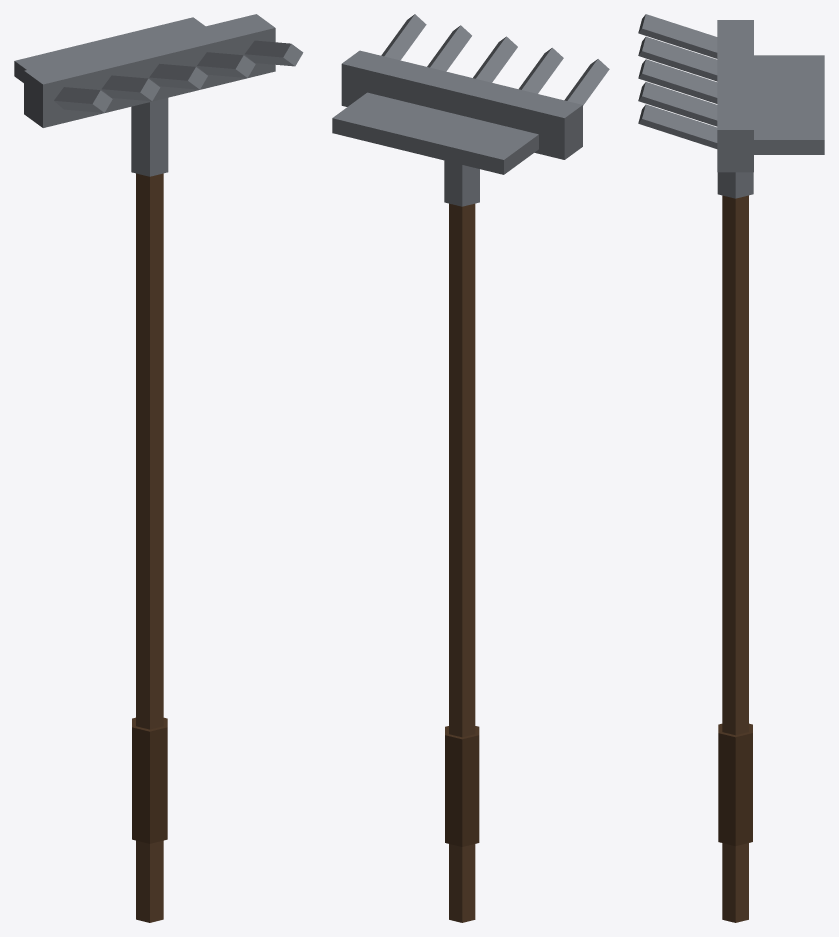
Rendered from T3_rake_a.glb.
3 views of the same model, side by side, from view 1: azimuth 30°, elevation 25°; view 2: azimuth 150°, elevation 25°; view 3: azimuth 270°, elevation 25° (orthographic). The views are drawn at different scales.
Visible parts, largest first — view 1: T3_rake_a; view 2: T3_rake_a; view 3: T3_rake_a.
Part boxes in pixels (bbox=[...]): T3_rake_a: bbox=[14, 14, 303, 922]; T3_rake_a: bbox=[332, 14, 609, 922]; T3_rake_a: bbox=[638, 14, 824, 922].
Bounding box in the file's own units: 0.3856 × 1.4 × 0.2761.
